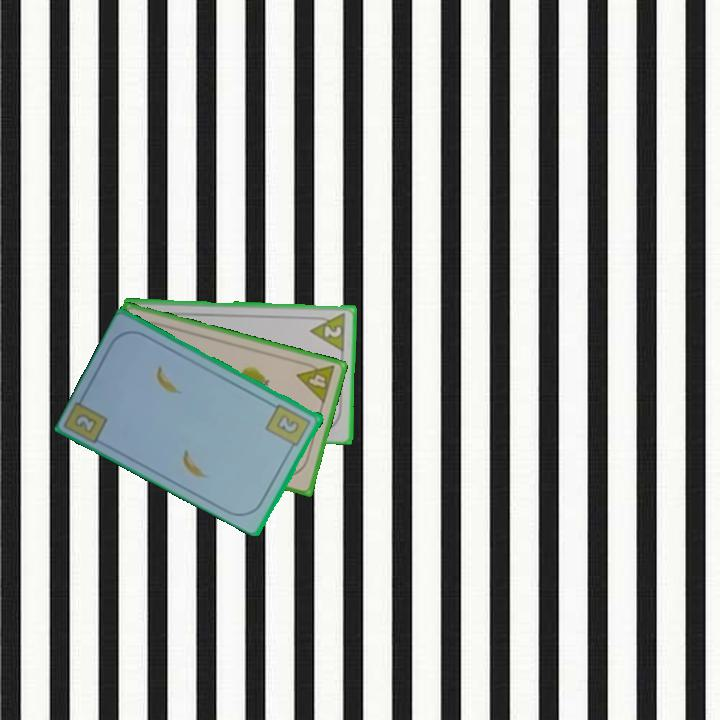2b: (263, 400, 314, 453), (71, 410, 100, 436)
2p: (307, 309, 349, 353)
4p: (293, 357, 338, 406)
